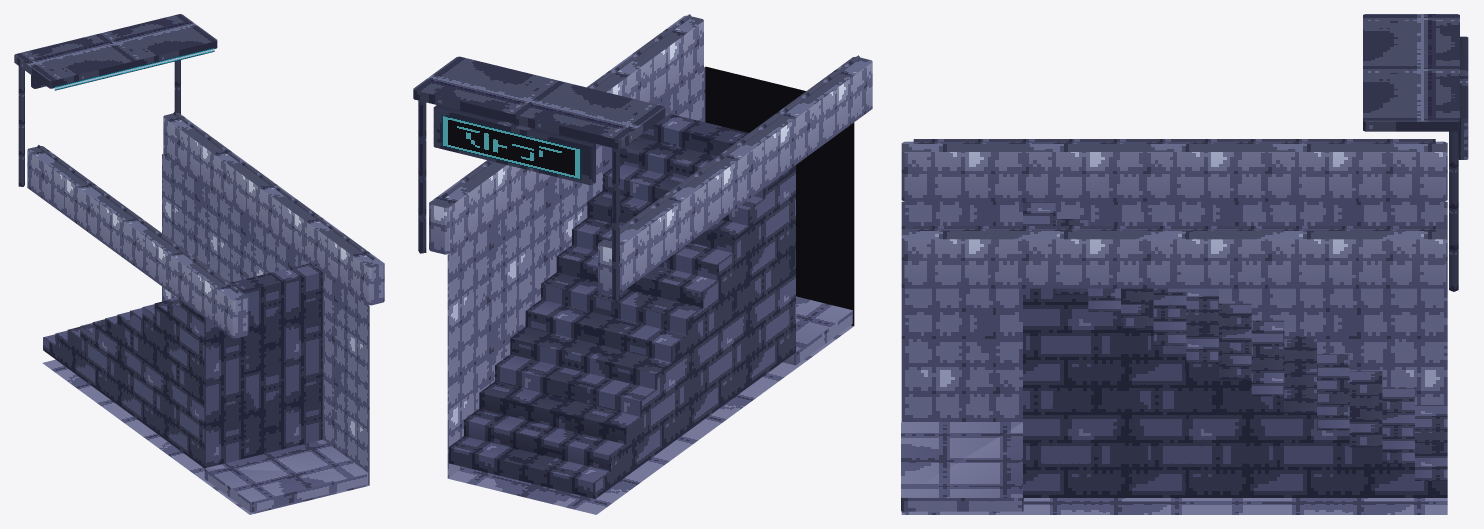
Rendered from cystreet.metro.glb.
3 renders of one model, left to right at view 1: azimuth 30°, elevation 25°; view 2: azimuth 150°, elevation 25°; view 3: azimuth 270°, elevation 25°, orthographic. The views are drawn at different scales.
Visible parts, largest first — view 1: kit_stairs, kit_canopy, kit_shell_well, kit_card_sign; view 2: kit_stairs, kit_canopy, kit_shell_well, kit_card_sign; view 3: kit_stairs, kit_canopy, kit_shell_well.
Boxes of the visible parts, <box> form: kit_stairs: <box>43,263,368,512</box>; kit_canopy: <box>14,14,384,338</box>; kit_shell_well: <box>42,154,369,514</box>; kit_card_sign: <box>42,47,214,90</box>; kit_stairs: <box>448,112,852,498</box>; kit_canopy: <box>413,14,872,300</box>; kit_shell_well: <box>447,66,854,514</box>; kit_card_sign: <box>441,115,581,180</box>; kit_stairs: <box>901,202,1447,511</box>; kit_canopy: <box>901,14,1468,291</box>; kit_shell_well: <box>901,201,1447,514</box>.
Size of the model in its own units: 4.2 by 7.43 by 9.38.
Materials: 10 (10 with a texture image).
